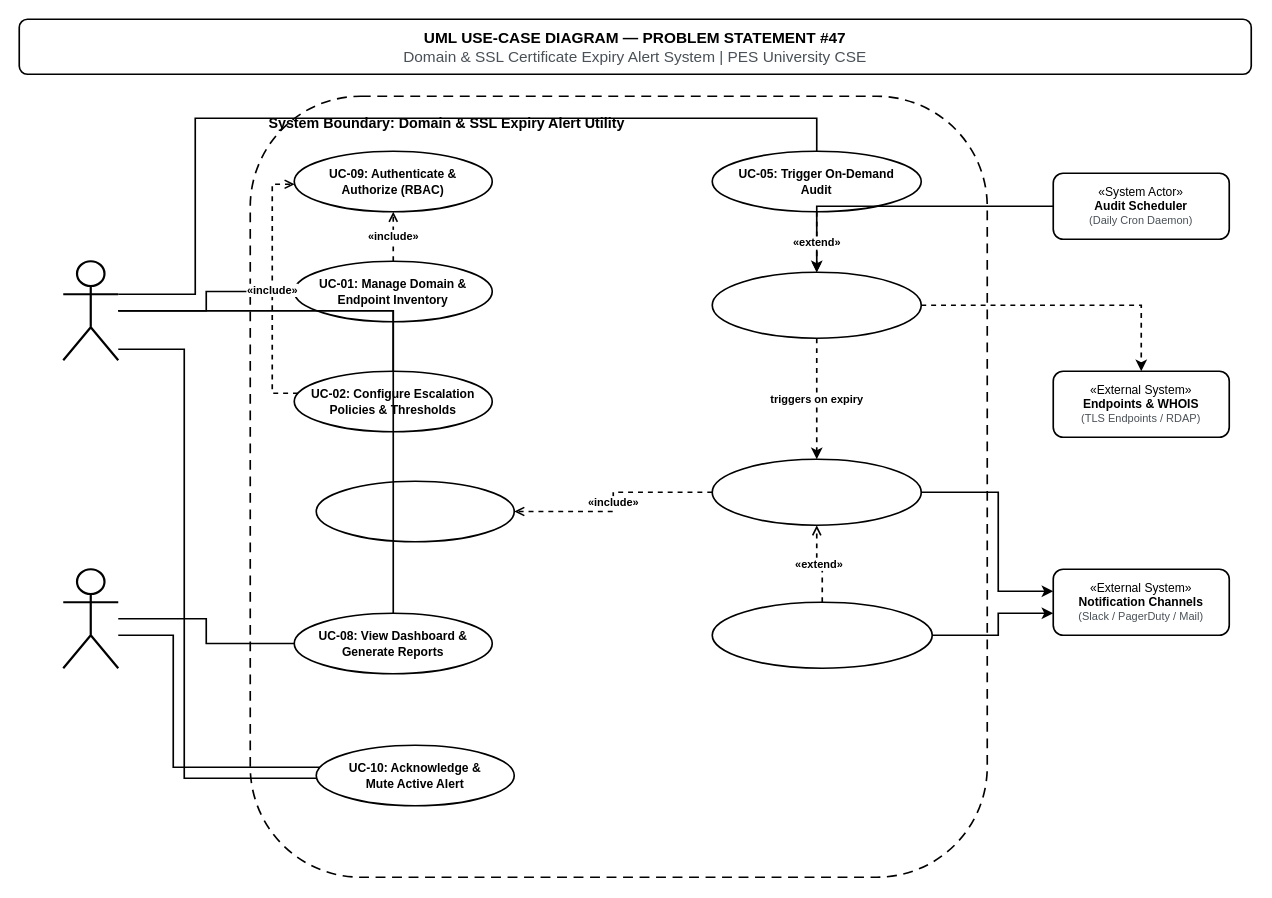
The diagram is 1272 pixels wide and 898 high, and some of its shapes have lost their labels. The centre of each missing label's shape, as x and y in pixels:
Security Officer (Secondary Actor): point (90, 618)
SysAdmin (Primary Actor): point (90, 310)
UC-03: Execute Automated Daily Expiry Audit: point (816, 305)
UC-04: Dispatch Multi-Channel Escalation Alerts: point (816, 492)
UC-06: Escalate to Security Officer (Critical Tier 3): point (822, 635)
UC-07: Verify Escalation Tier & Routing Rules: point (415, 511)
